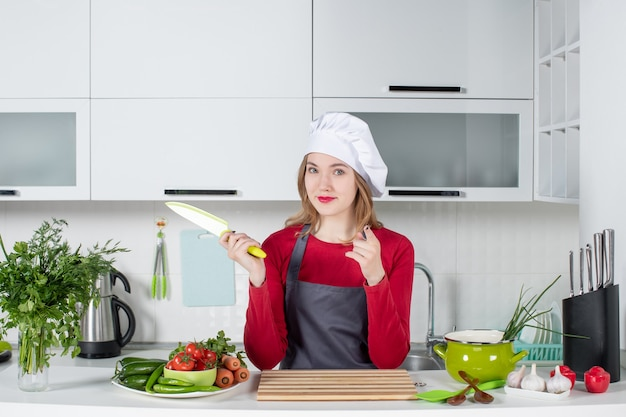knife: (163, 201, 231, 239)
